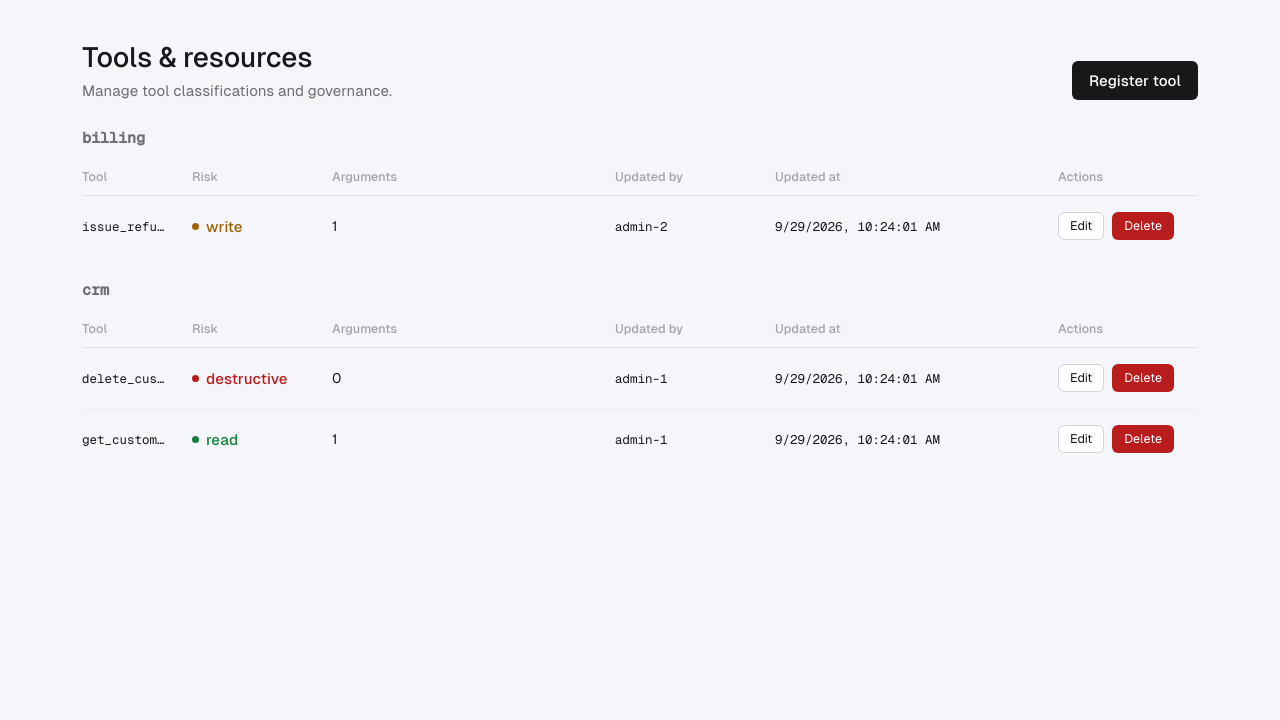
Test: ToolsPage › disables Save when schema is not a JSON object ([])
The width and height of the screenshot is (1280, 720).
Expected: the text "get_customer" is shown, [82, 408, 192, 469]
Click the button "Edit" in the row of "get_customer" at (1081, 439), box [1058, 425, 1104, 453]
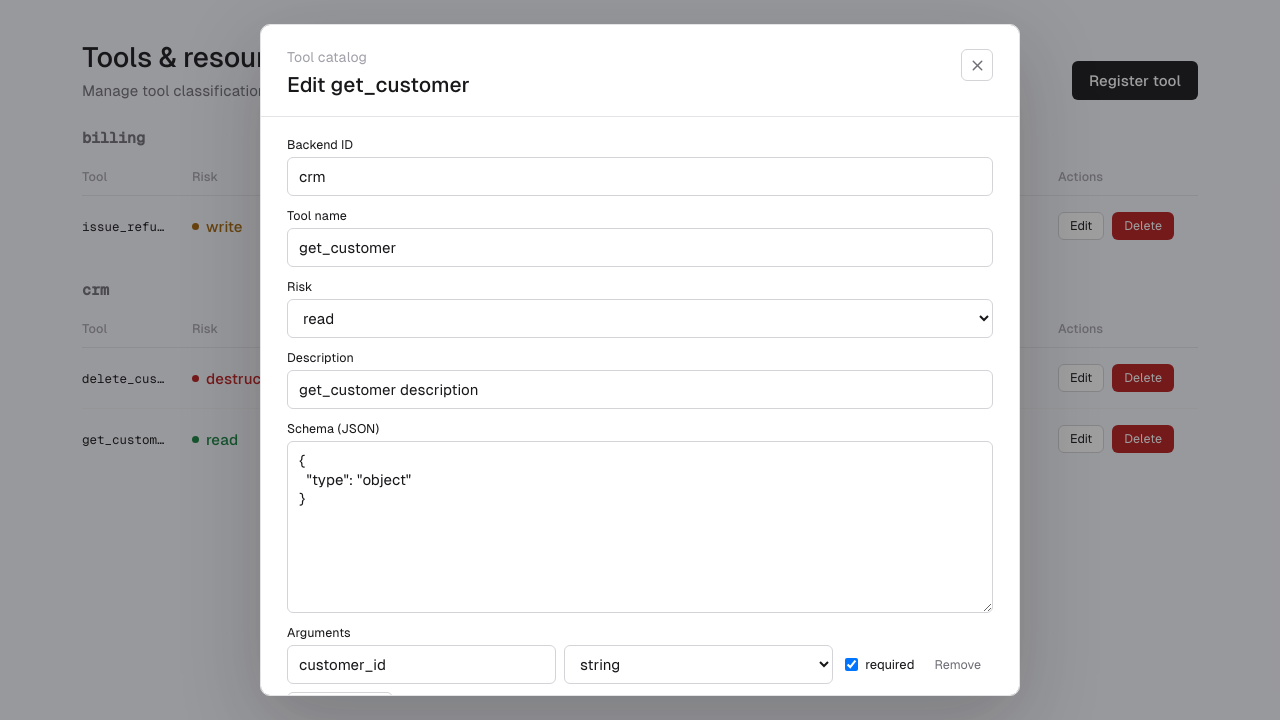
Replace the text in the text box labelled "Schema (JSON)" with "[]" at (640, 527), box [287, 441, 993, 613]
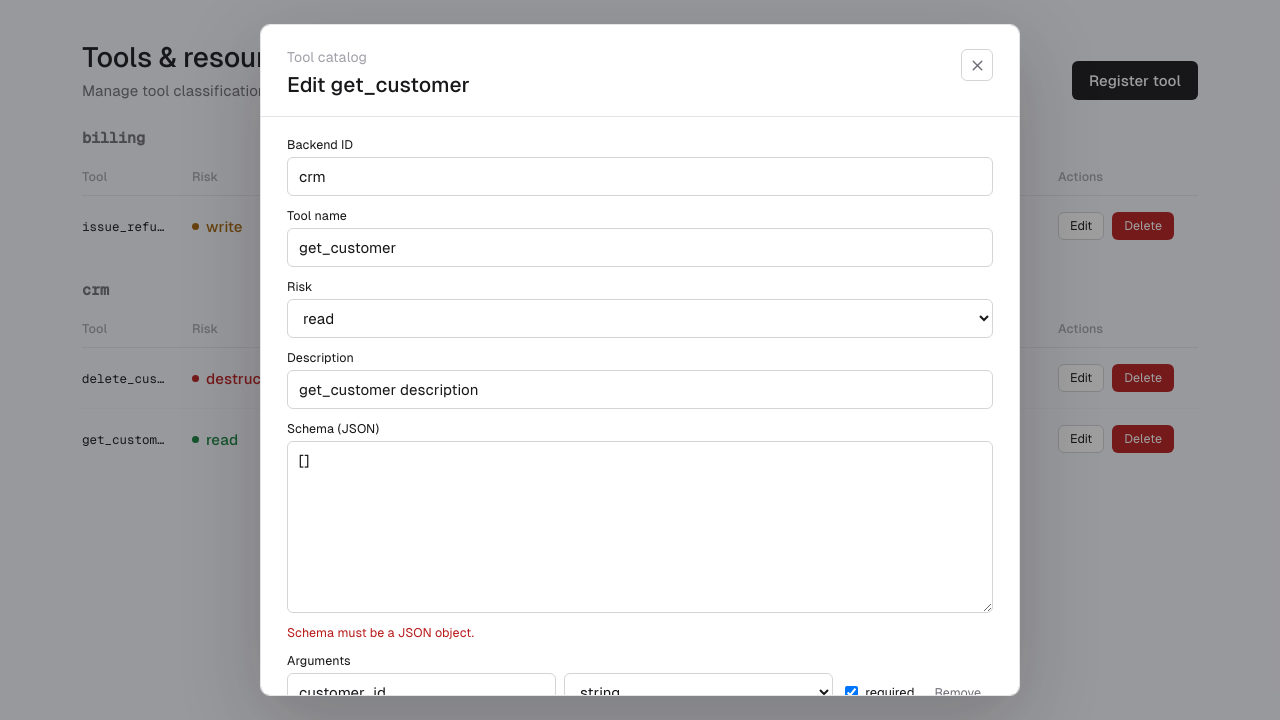
Expected: the text "Schema must be a JSON object." is shown, [287, 625, 474, 640]
